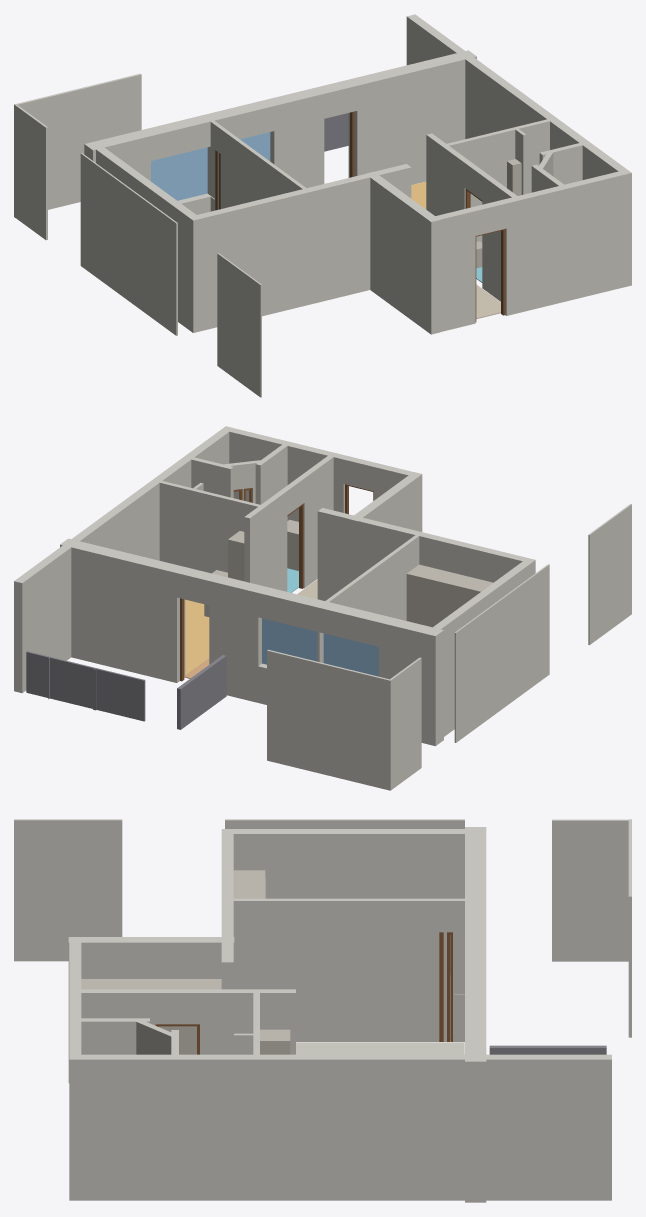
3 renders of one model, top to bottom at view 1: azimuth 30°, elevation 25°; view 2: azimuth 150°, elevation 25°; view 3: azimuth 270°, elevation 25°, orthographic. The views are drawn at different scales.
Visible parts, largest first — view 1: walls, window_3, railings, door_0, floor_4_Entry; view 2: walls, railings, furniture_1_closet, window_2, window_3, floor_3_Kitchen, furniture_0_closet, furniture_7_appliance; view 3: walls, floor_1_Undefined, furniture_3_closet, railings, furniture_1_closet, furniture_0_closet, door_8, door_7.
Boxes of the visible parts, left/top/right/bottom form: walls: left=14, top=14, right=631, bottom=397; window_3: left=151, top=147, right=207, bottom=200; railings: left=324, top=113, right=348, bottom=151; door_0: left=475, top=229, right=505, bottom=321; floor_4_Entry: left=476, top=284, right=500, bottom=318; walls: left=14, top=426, right=631, bottom=790; railings: left=26, top=651, right=226, bottom=729; furniture_1_closet: left=406, top=564, right=493, bottom=627; window_2: left=262, top=618, right=317, bottom=664; window_3: left=323, top=633, right=378, bottom=676; floor_3_Kitchen: left=185, top=599, right=209, bottom=675; furniture_0_closet: left=228, top=531, right=244, bottom=581; furniture_7_appliance: left=287, top=519, right=298, bottom=570; walls: left=14, top=819, right=631, bottom=1202; floor_1_Undefined: left=296, top=1042, right=464, bottom=1054; furniture_3_closet: left=81, top=979, right=221, bottom=1054; railings: left=489, top=1045, right=606, bottom=1054; furniture_1_closet: left=233, top=870, right=265, bottom=898; furniture_0_closet: left=260, top=1029, right=290, bottom=1054; door_8: left=447, top=932, right=452, bottom=1041; door_7: left=439, top=932, right=443, bottom=1041.
Bounding box in the file's own units: 9.96 × 2.72 × 10.73.
